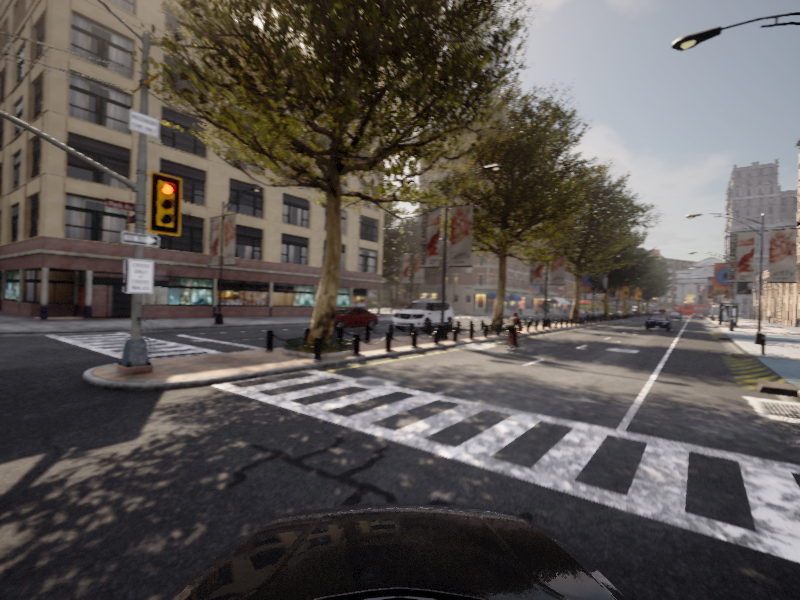vehicle: (389, 298, 458, 334), (310, 306, 383, 332), (499, 312, 527, 353), (644, 315, 672, 331)
